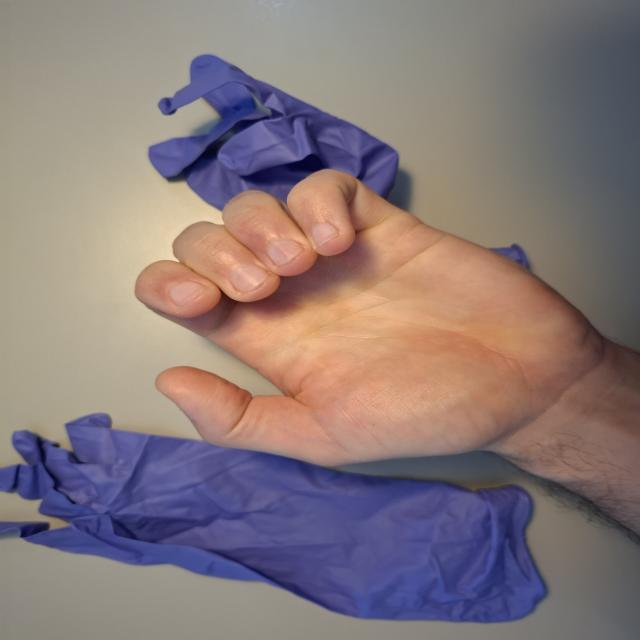glove_off: (136, 170, 613, 469)
